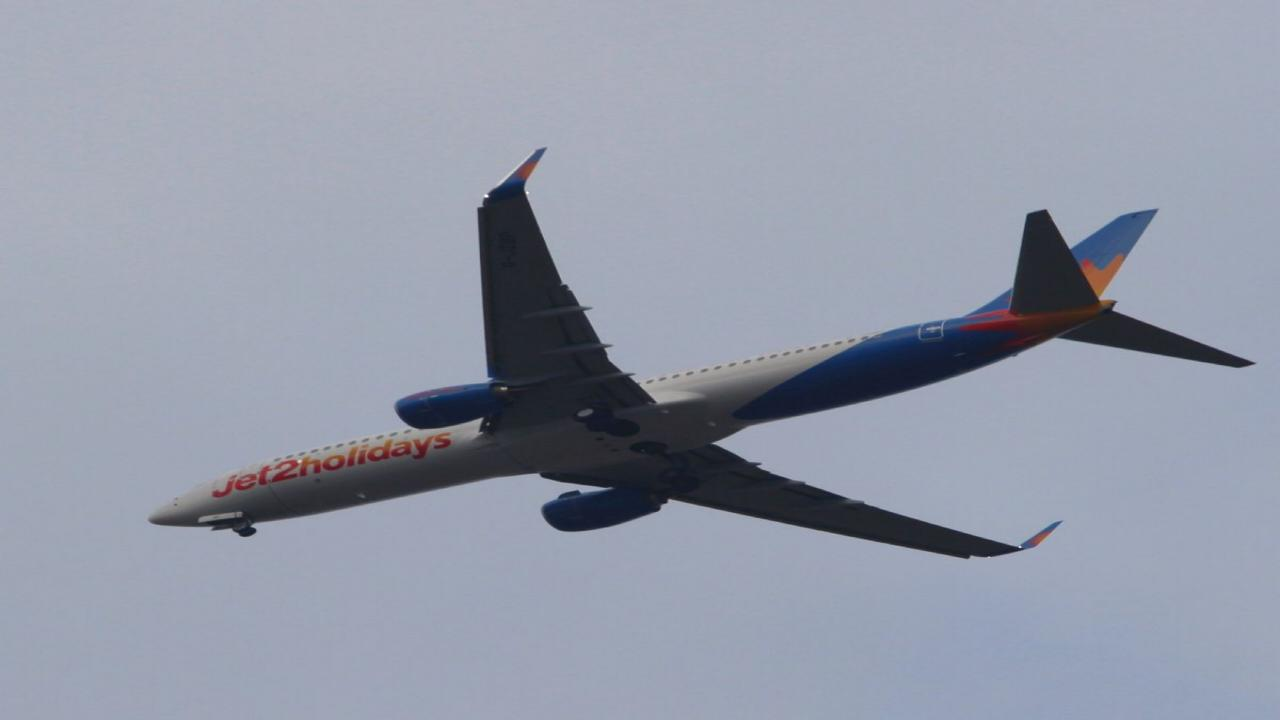Airplane: (139, 139, 1271, 572)
